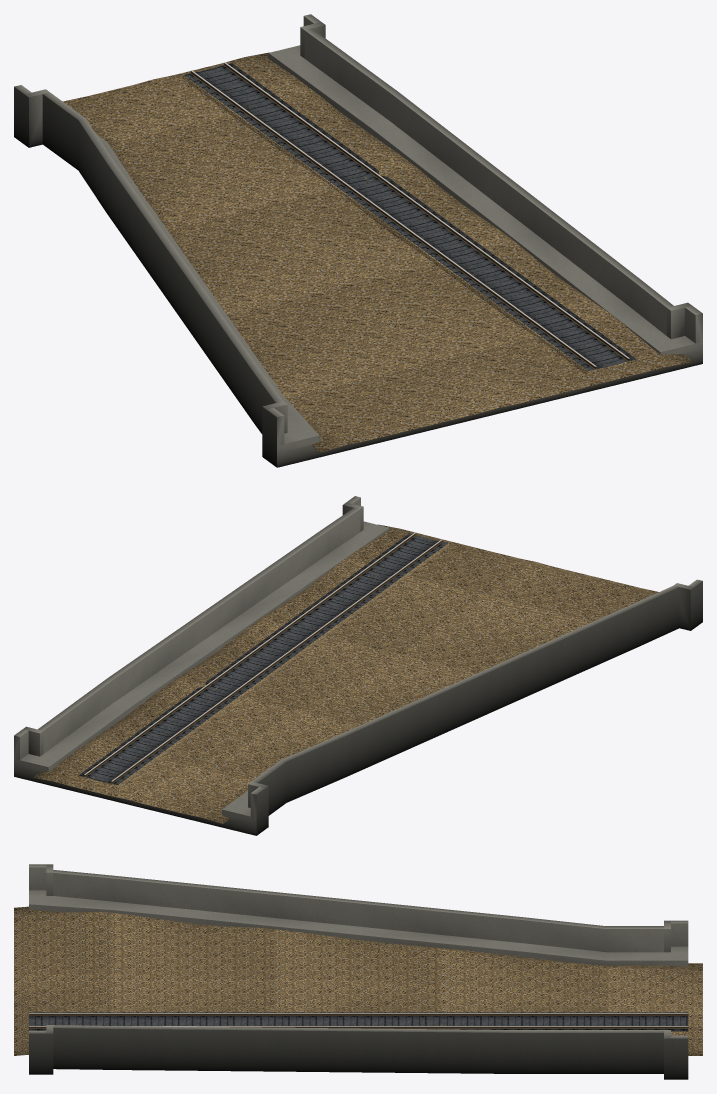
The model's file is 2_TO_4RAIL_JK.glb.
The picture shows the model from 3 angles, top to bottom: view 1: azimuth 30°, elevation 25°; view 2: azimuth 150°, elevation 25°; view 3: azimuth 270°, elevation 25°; orthographic projection. The views are drawn at different scales.
Parts seen in each view (by area): view 1: obj4; view 2: obj4; view 3: obj4.
Part boxes in pixels (bbox=[...]): obj4: bbox=[14, 14, 702, 467]; obj4: bbox=[14, 496, 702, 835]; obj4: bbox=[14, 864, 702, 1079].
Bounding box in the file's own units: 62.56 × 6.88 × 105.
4 materials, 3 textured.
